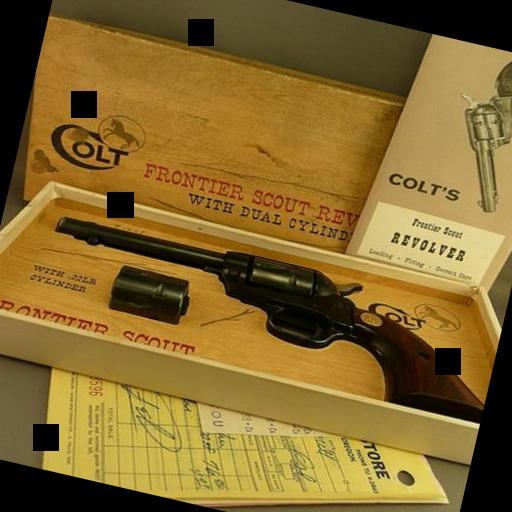Handgun: (33, 210, 502, 420)
